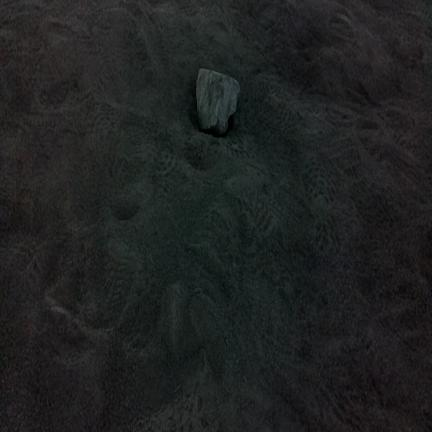Rock: (197, 69, 239, 135)
